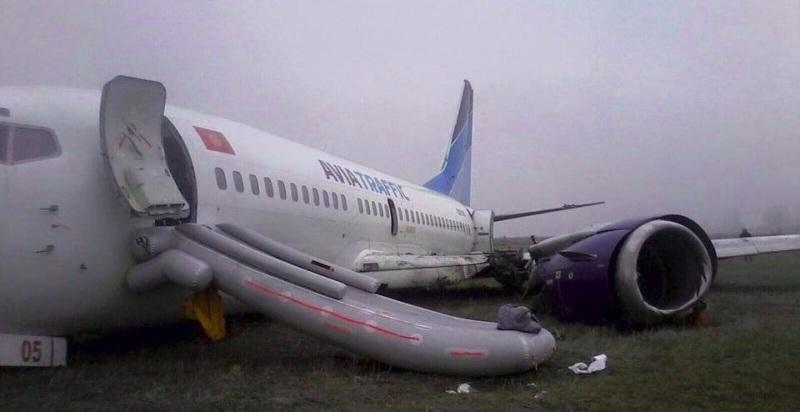airplane: (1, 77, 597, 352)
